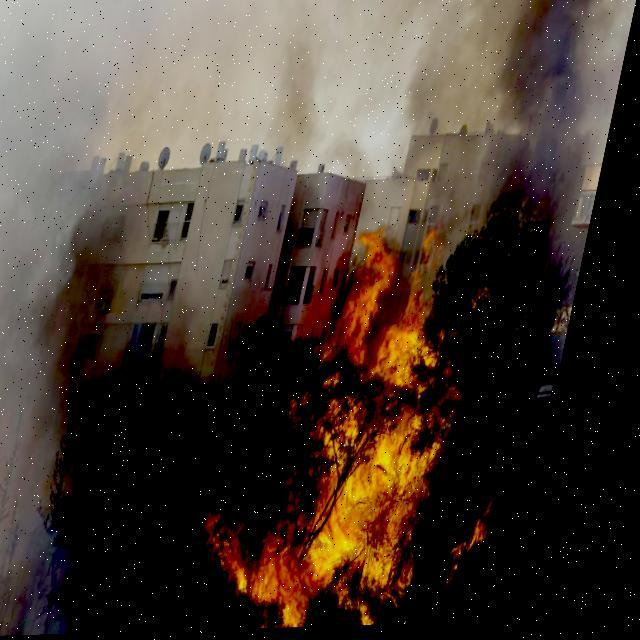Fire: (228, 207, 521, 631)
